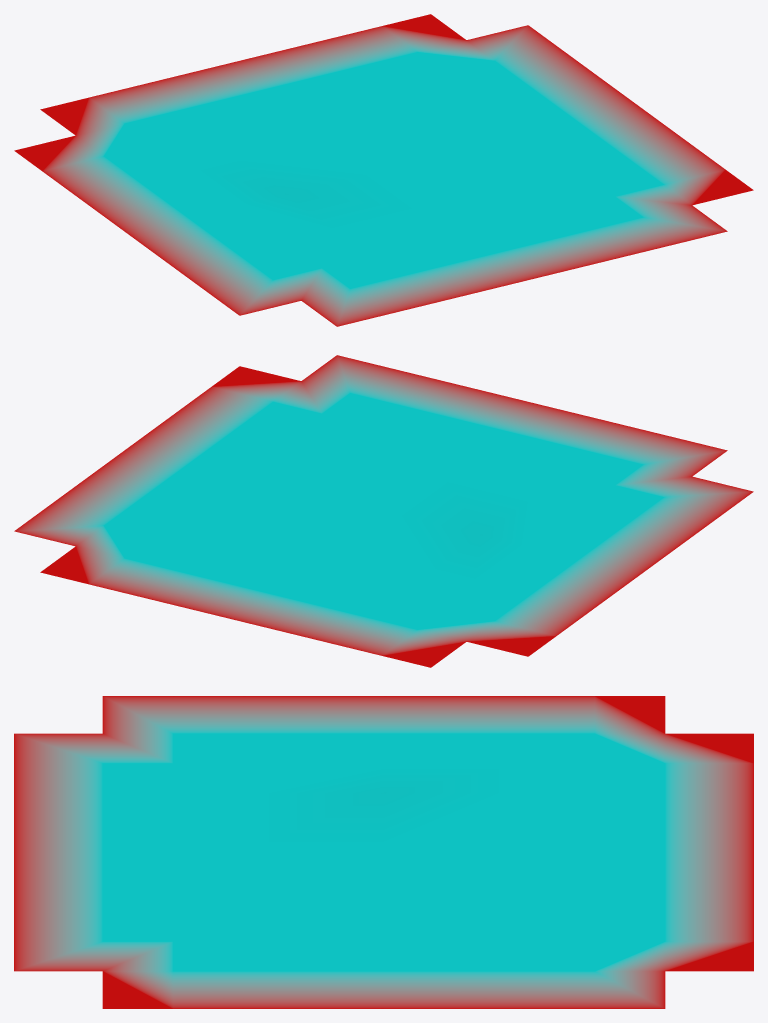
The model's file is stage_bass.fbx.
3 views of the same model, one above another, from view 1: azimuth 30°, elevation 25°; view 2: azimuth 150°, elevation 25°; view 3: azimuth 270°, elevation 25° (orthographic). The views are drawn at different scales.
Visible parts, largest first — view 1: stage; view 2: stage; view 3: stage.
Boxes of the visible parts, x1,y1,x2,y2 form: stage: (14,14,753,326); stage: (14,355,753,667); stage: (14,696,753,1008).
Bounding box in the file's own units: 2500 × 0 × 2500.
